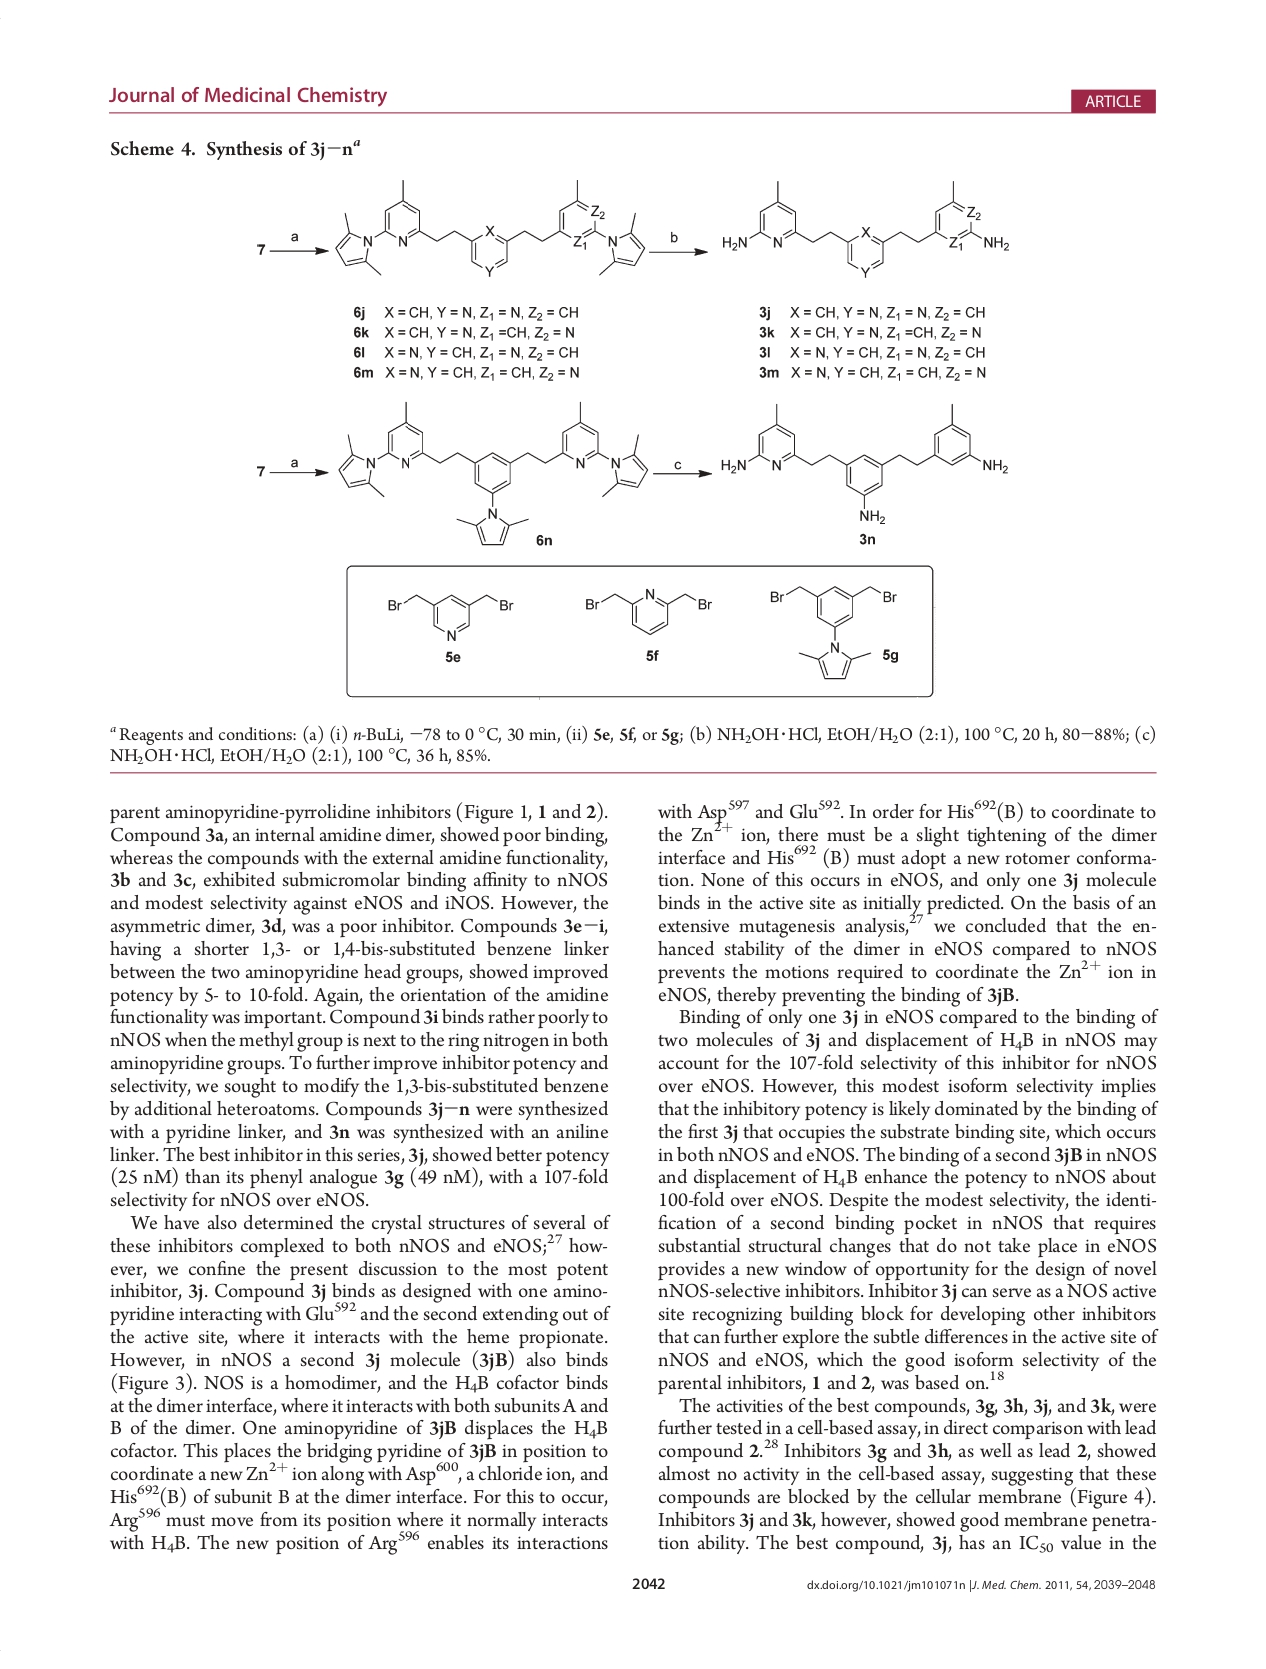exist_molecular: (332, 396, 650, 547), (721, 399, 1012, 524), (332, 176, 648, 285), (717, 178, 1013, 283), (763, 578, 902, 684), (578, 584, 714, 638), (384, 588, 516, 644)
